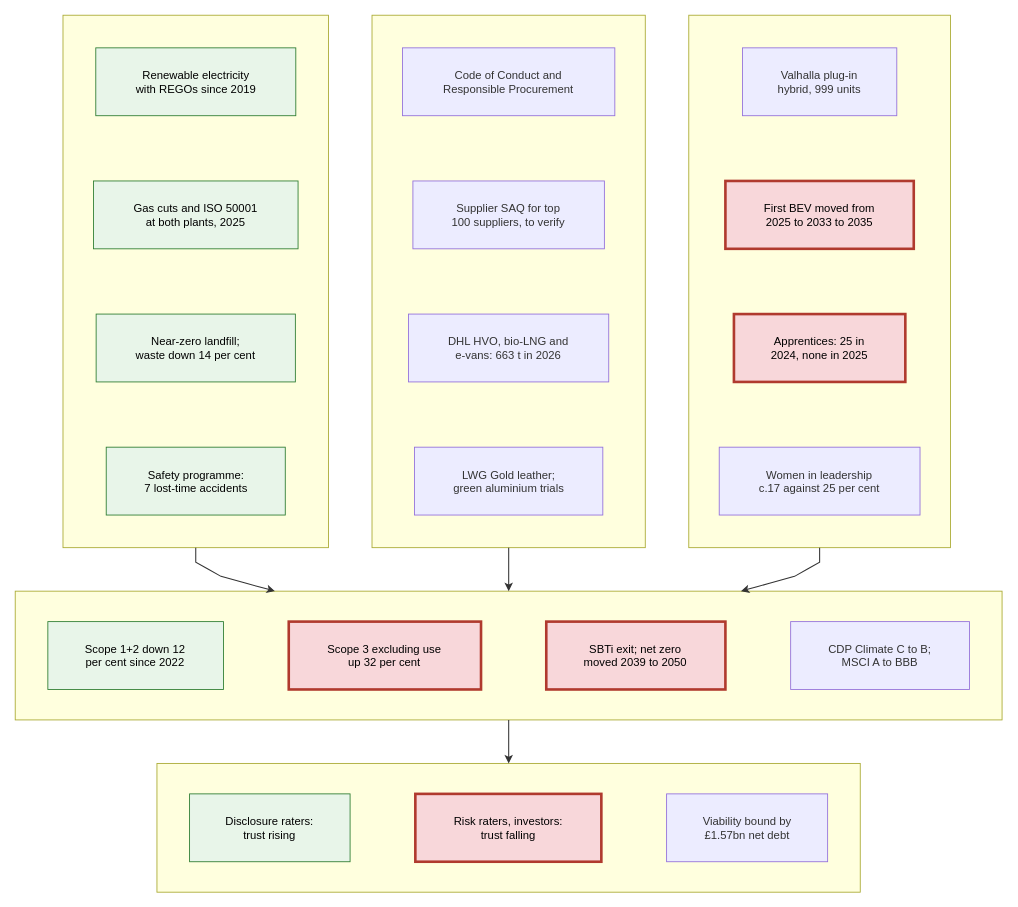
This 1018x907 diagram has some shape labels left out. Here are the shapes that lost their labels. From the top down, the box of each, then its label:
(62, 14, 329, 548): Operations initiatives
(371, 14, 645, 548): Supply chain initiatives
(688, 14, 950, 548): Product and people
(14, 590, 1002, 720): Measured outcomes
(156, 763, 860, 892): Stakeholder effect
